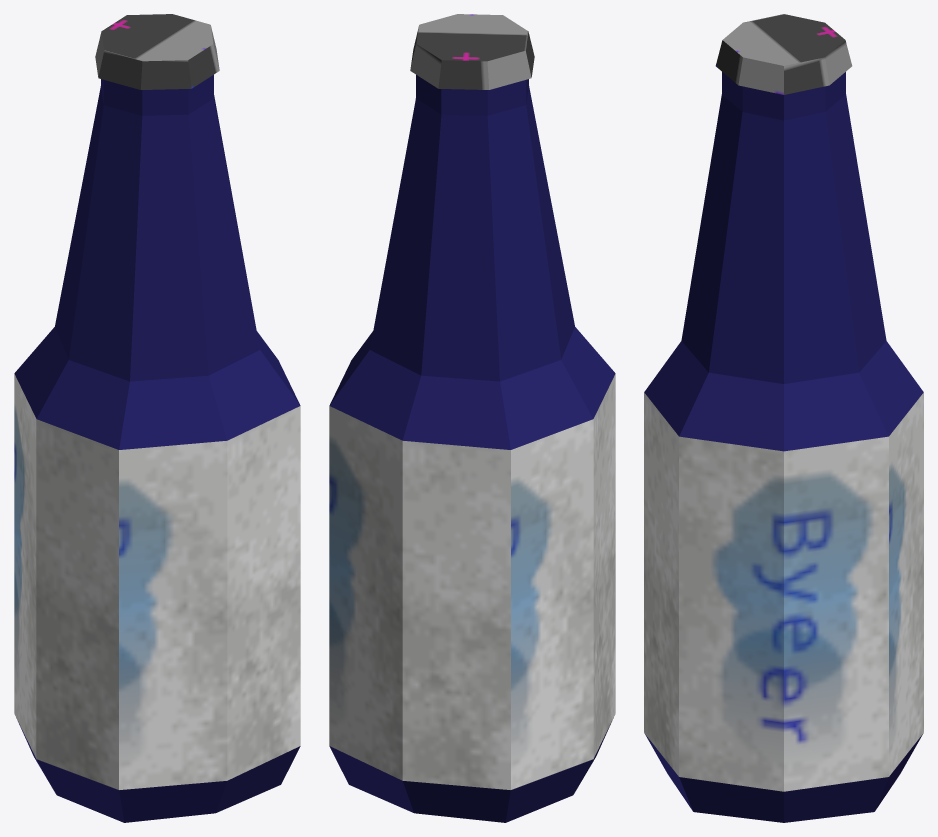
The model's file is bottle_beer.glb.
3 views of the same model, side by side, from view 1: azimuth 30°, elevation 25°; view 2: azimuth 150°, elevation 25°; view 3: azimuth 270°, elevation 25° (orthographic).
Parts seen in each view (by area): view 1: Cube; view 2: Cube; view 3: Cube.
Boxes of the visible parts, bbox=[...] form: Cube: bbox=[14, 14, 300, 822]; Cube: bbox=[329, 14, 615, 822]; Cube: bbox=[644, 14, 923, 822].
Bounding box in the file's own units: 0.084 × 0.2431 × 0.084.
Materials: 3 (2 with a texture image).
